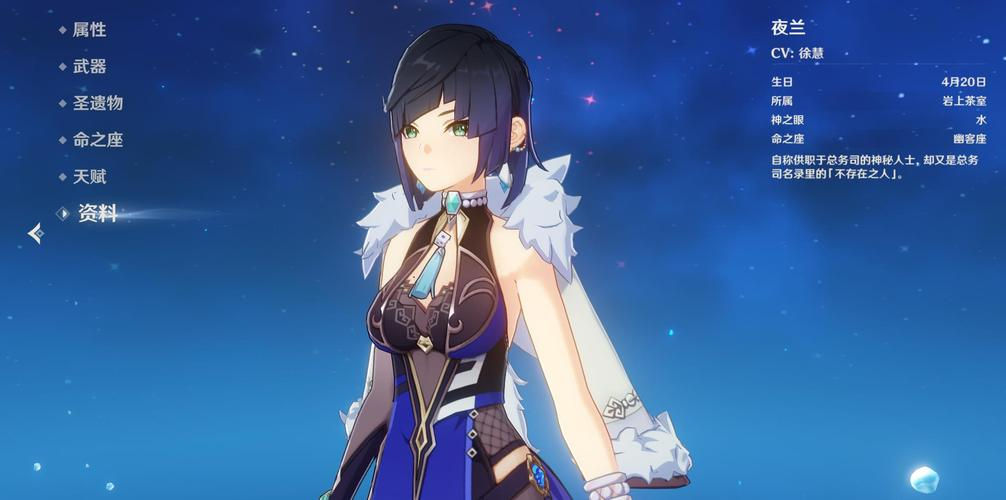夜兰: (320, 23, 632, 500)
